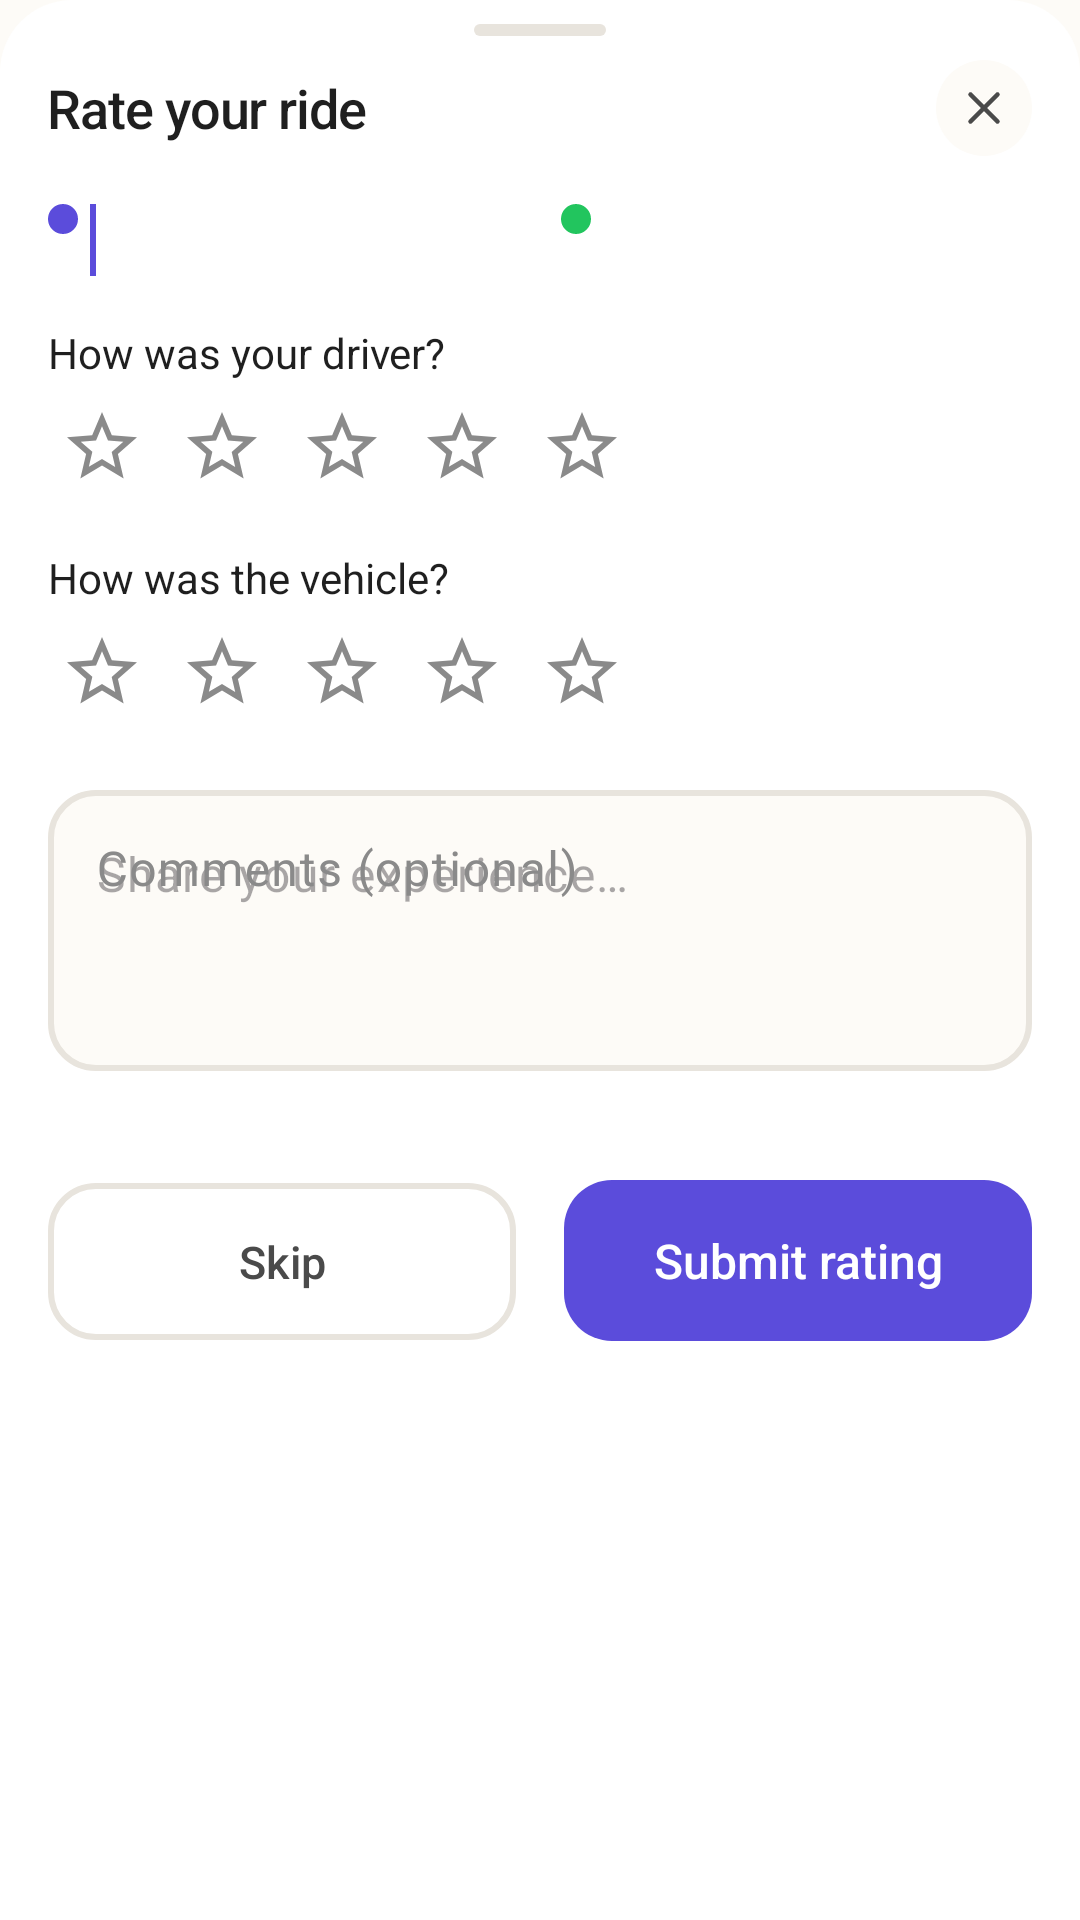

Screen size 1080px×1920px. Icon name, then its box in pixels as (x1, y1, x2, y2):
Close: (968, 92, 1000, 124)
